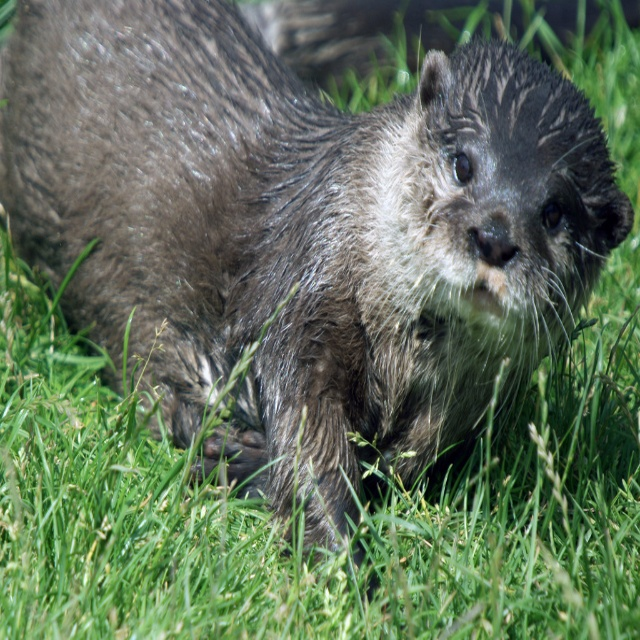Otter: (0, 0, 635, 612)
